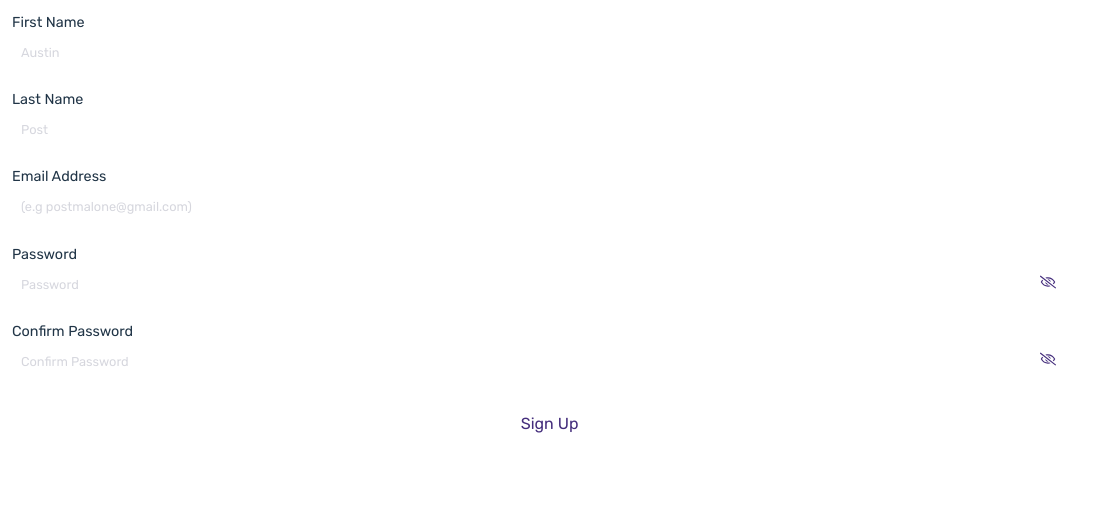
Test: SignUpForm › shows email format error for invalid email
The image size is (1104, 522).
Type "Alice" into the field with placeholder "Austin" at (533, 53), box [12, 34, 1054, 71]
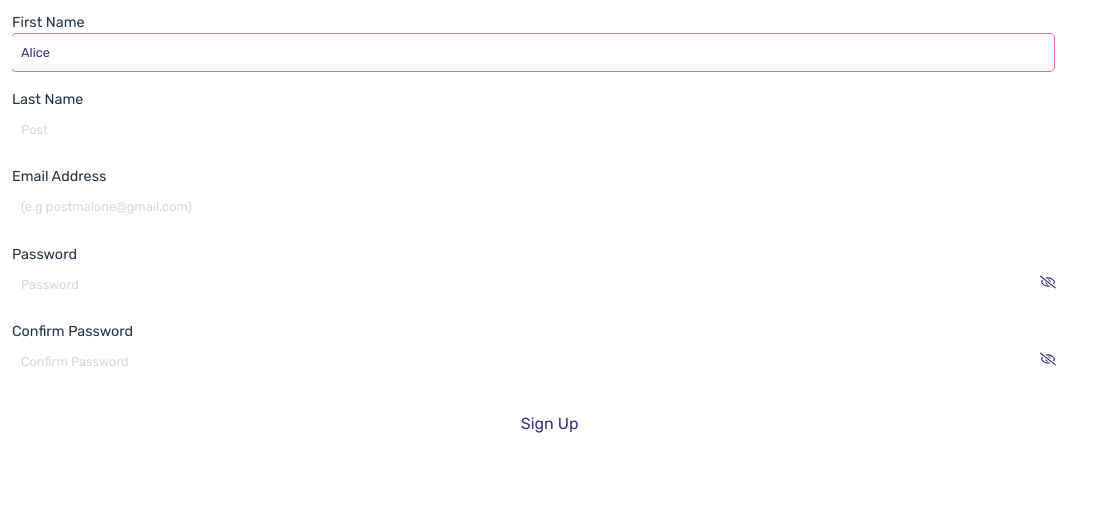
Type "Smith" into the field with placeholder "Post" at (533, 130), box [12, 111, 1054, 148]
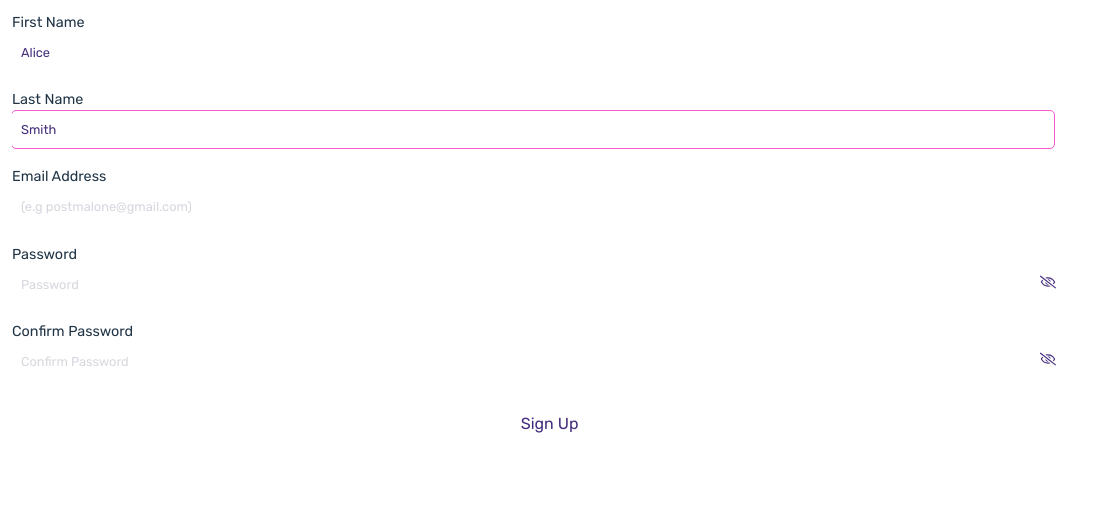
Type "bademail" into the field with placeholder "(e.g postmalone@gmail.com)" at (533, 207), box [12, 188, 1054, 226]
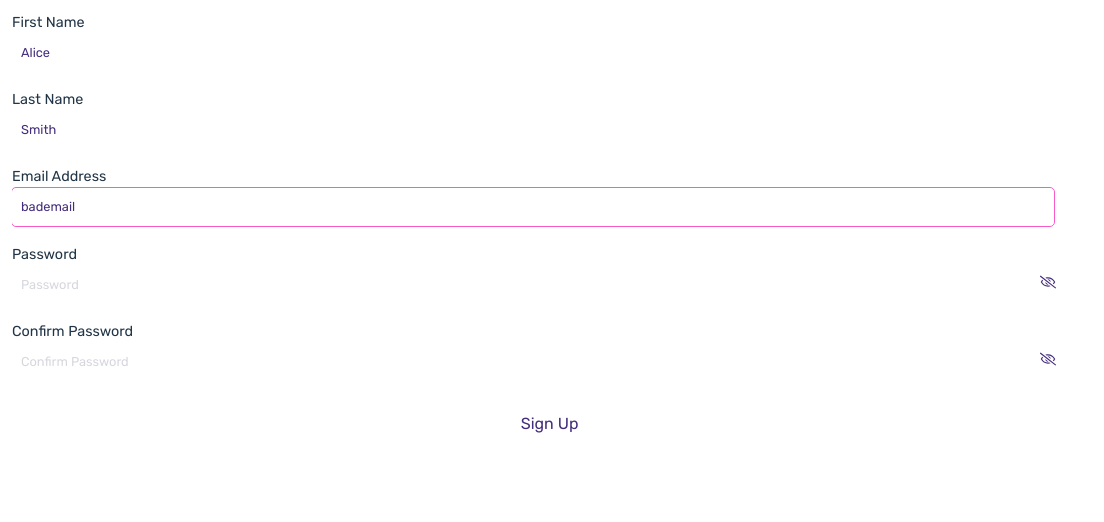
Click the button at (550, 424), box [12, 404, 1087, 444]
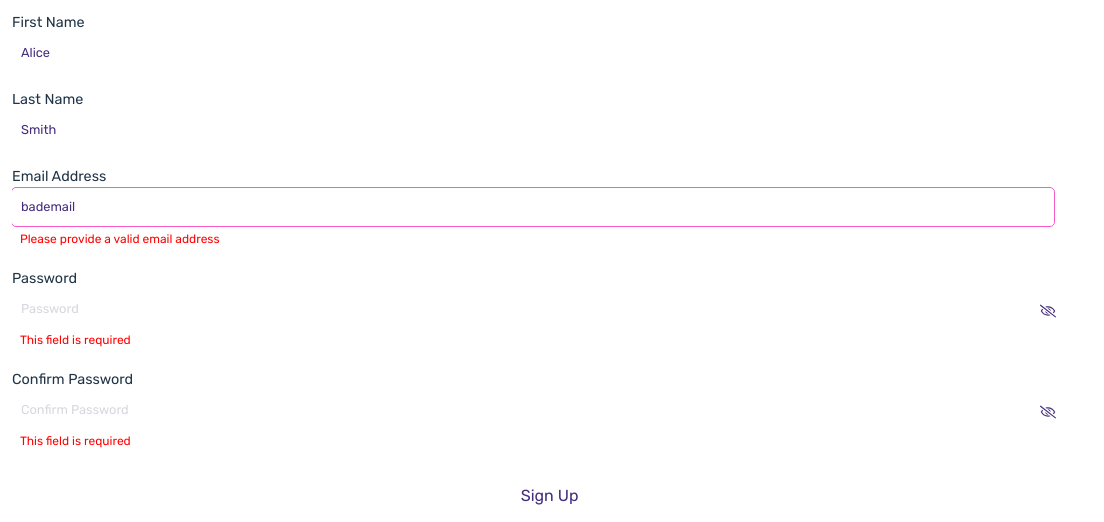
expect the text "Please provide a valid email address" is shown: met, box [12, 232, 220, 246]
